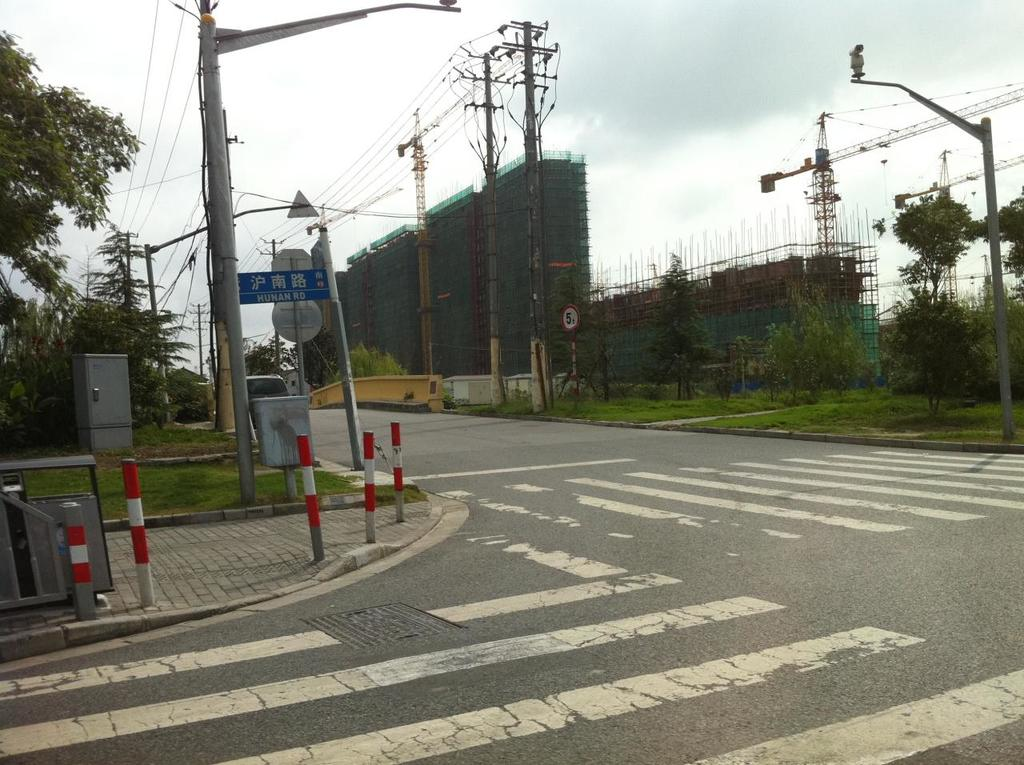Tree: (534, 168, 1024, 416), (0, 23, 215, 442), (236, 326, 353, 378)
